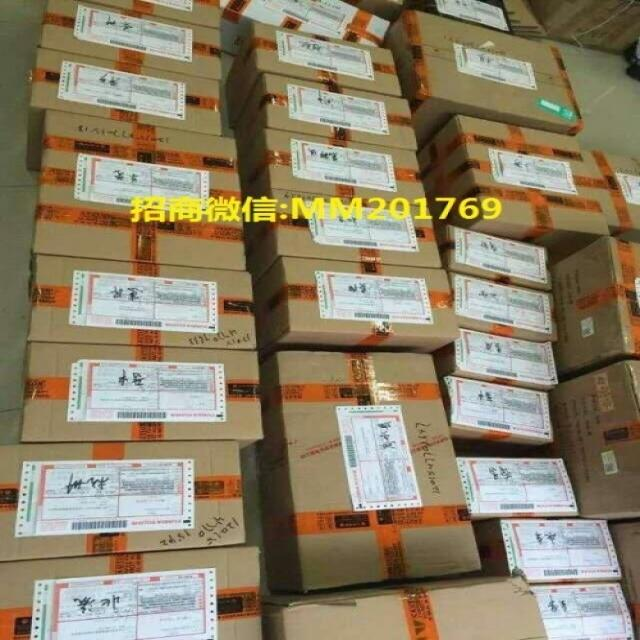box: (259, 352, 484, 591), (32, 109, 248, 271), (0, 440, 246, 562), (417, 114, 613, 266), (380, 10, 585, 152), (19, 344, 264, 448), (0, 546, 264, 639), (26, 253, 257, 348), (252, 255, 460, 355), (223, 21, 403, 128), (244, 189, 443, 285), (265, 576, 549, 640), (28, 47, 221, 136), (538, 360, 640, 520), (233, 74, 419, 159), (38, 0, 221, 81), (239, 129, 429, 205), (550, 236, 639, 381), (221, 0, 390, 57), (475, 520, 623, 583), (443, 374, 554, 453), (445, 269, 558, 343), (434, 328, 559, 392), (457, 458, 581, 522), (438, 225, 553, 290), (529, 581, 635, 640), (529, 0, 640, 54), (580, 147, 639, 240), (77, 0, 221, 29), (609, 522, 640, 639), (342, 0, 403, 21)
